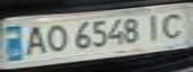4: (106, 16, 127, 47)
5: (90, 17, 112, 50)
6: (69, 18, 93, 51)
8: (121, 15, 145, 45)
A: (18, 21, 51, 57)
C: (157, 9, 193, 39)
I: (139, 10, 169, 42)
O: (42, 21, 69, 54)
